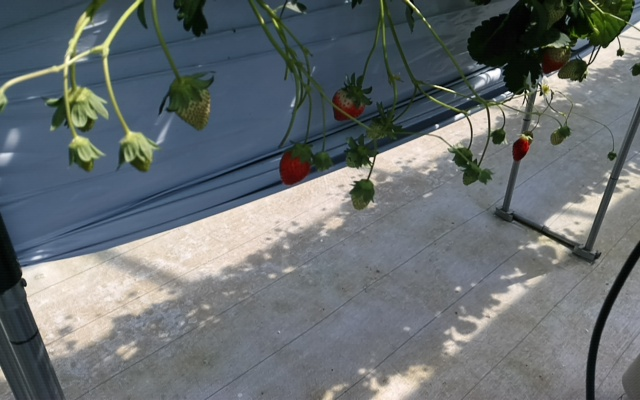GreenStrawberry: (166, 74, 212, 133), (120, 132, 156, 175), (68, 137, 99, 175), (349, 178, 376, 211), (558, 59, 588, 82), (343, 142, 366, 170), (459, 165, 480, 188), (550, 126, 564, 147)
MatureStrawberry: (278, 145, 312, 189), (332, 84, 369, 124), (539, 48, 567, 73), (510, 135, 530, 165)
